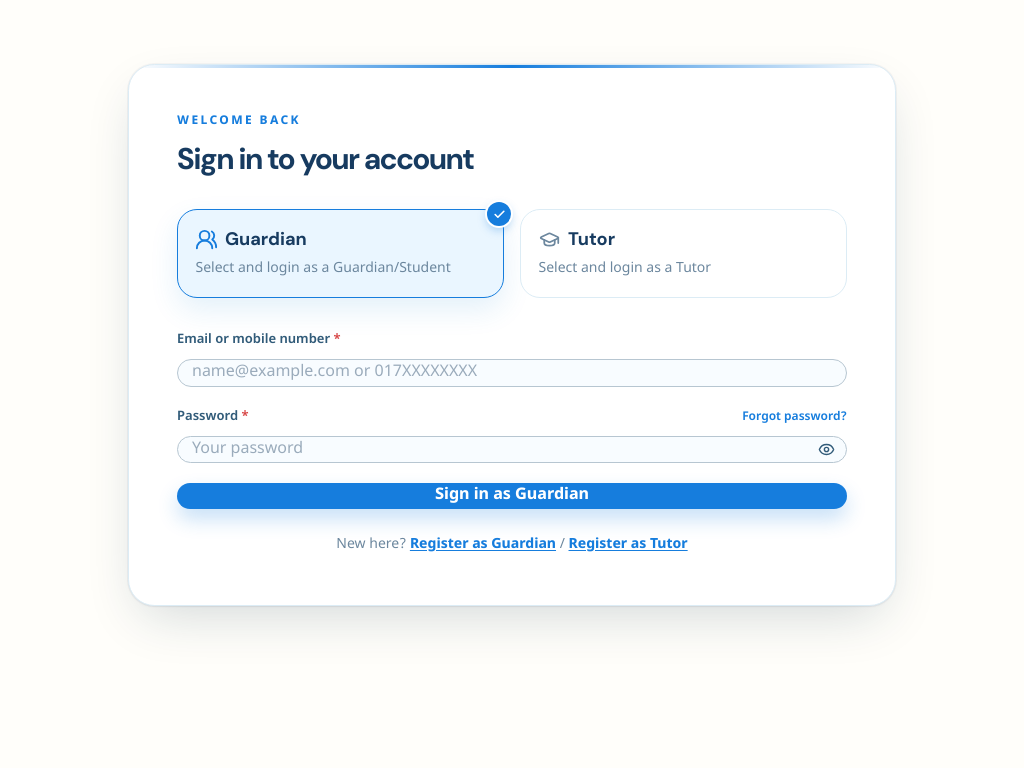
it: sign-in error messages › keeps the generic hint for wrong credentials (UNAUTHORIZED)
Type "guardian@example.com" into the field labelled "Email or mobile number *" at (512, 373), box 177,359 -> 847,387
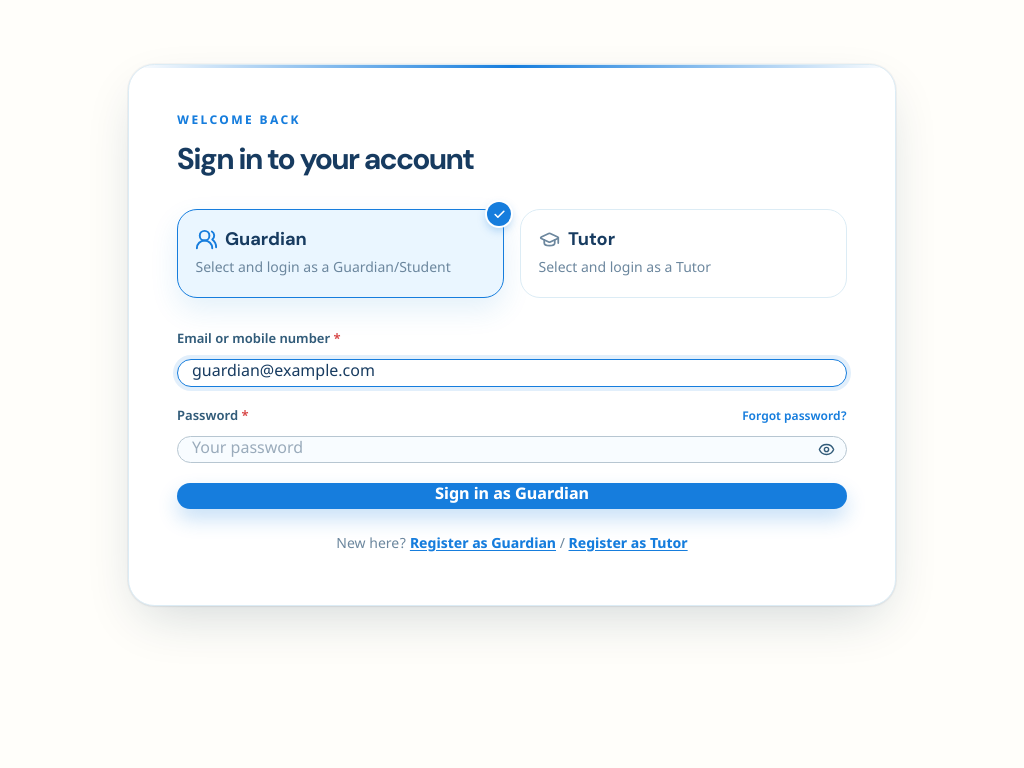
Type "wrong-password" into the password field labelled "Password *" at (512, 449), box 177,436 -> 847,463
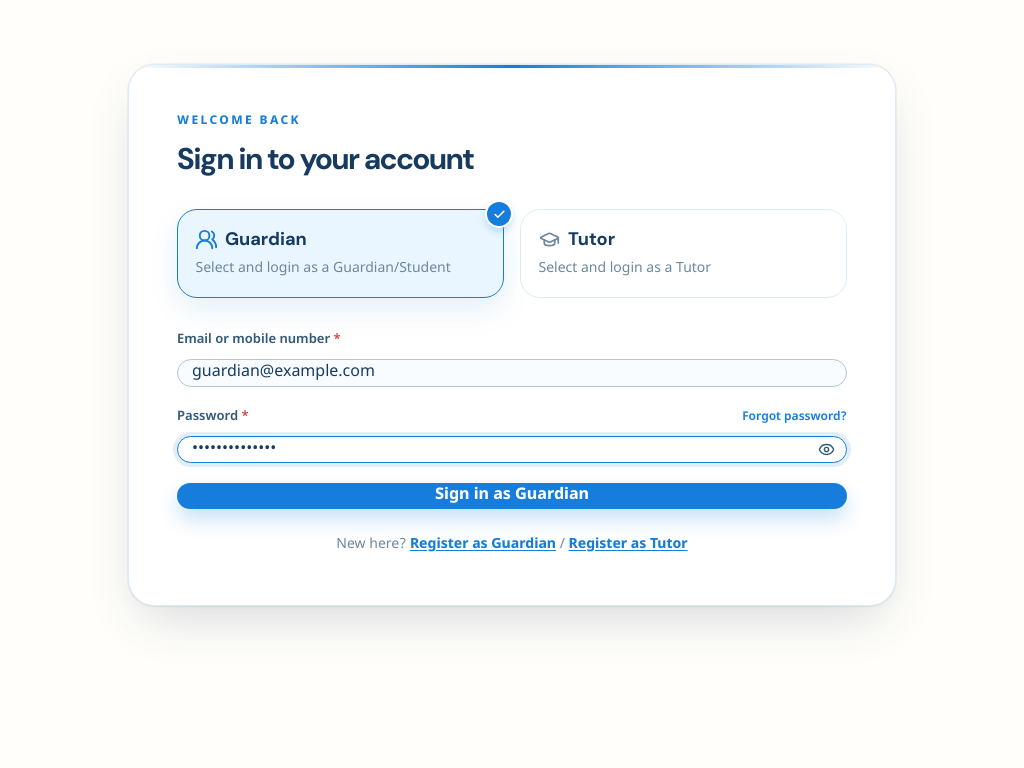
Click the button "Sign in as Guardian" at (512, 496), box 177,483 -> 847,509
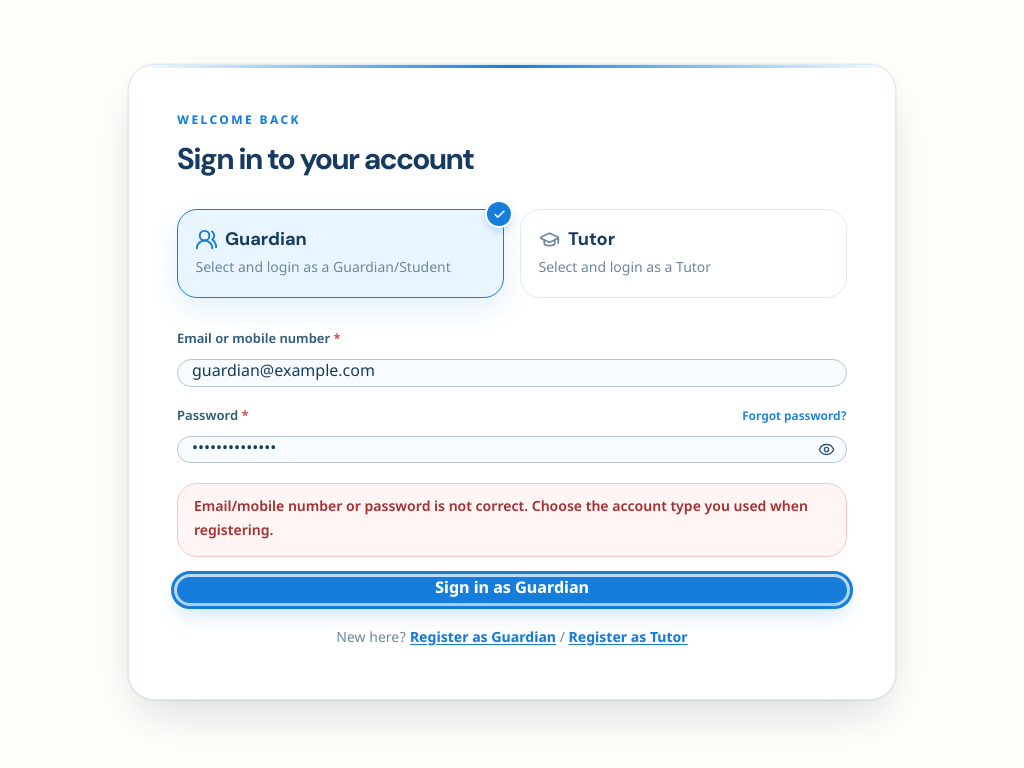
Expected: the message shows "Email/mobile number or password is not correct. Choose the account type you used when registering.", 194,498 -> 808,541
